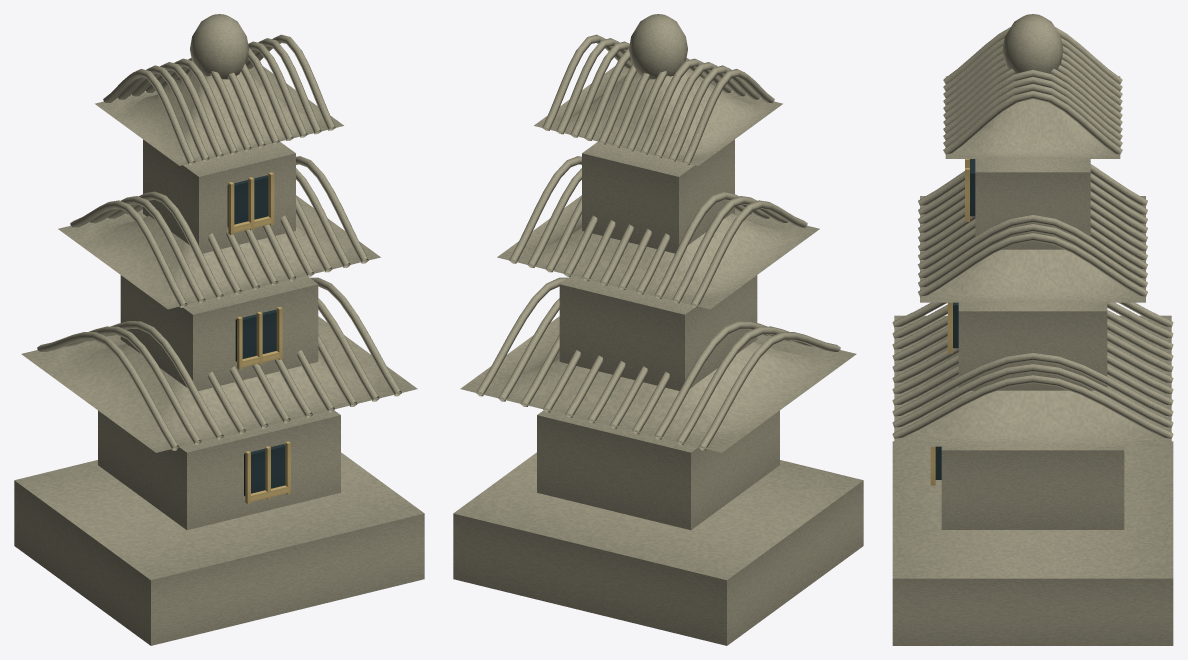
The model's file is stone_pagoda.glb.
The picture shows the model from 3 angles, left to right: view 1: azimuth 30°, elevation 25°; view 2: azimuth 150°, elevation 25°; view 3: azimuth 270°, elevation 25°; orthographic projection. The views are drawn at different scales.
Parts seen in each view (by area): view 1: static_ornament; view 2: static_ornament; view 3: static_ornament.
Boxes of the visible parts, <box> form: static_ornament: <box>14,14,424,645</box>; static_ornament: <box>453,14,863,645</box>; static_ornament: <box>892,14,1173,645</box>.
Bounding box in the file's own units: 0.96 × 1.83 × 0.8312.
1 material, 1 textured.
